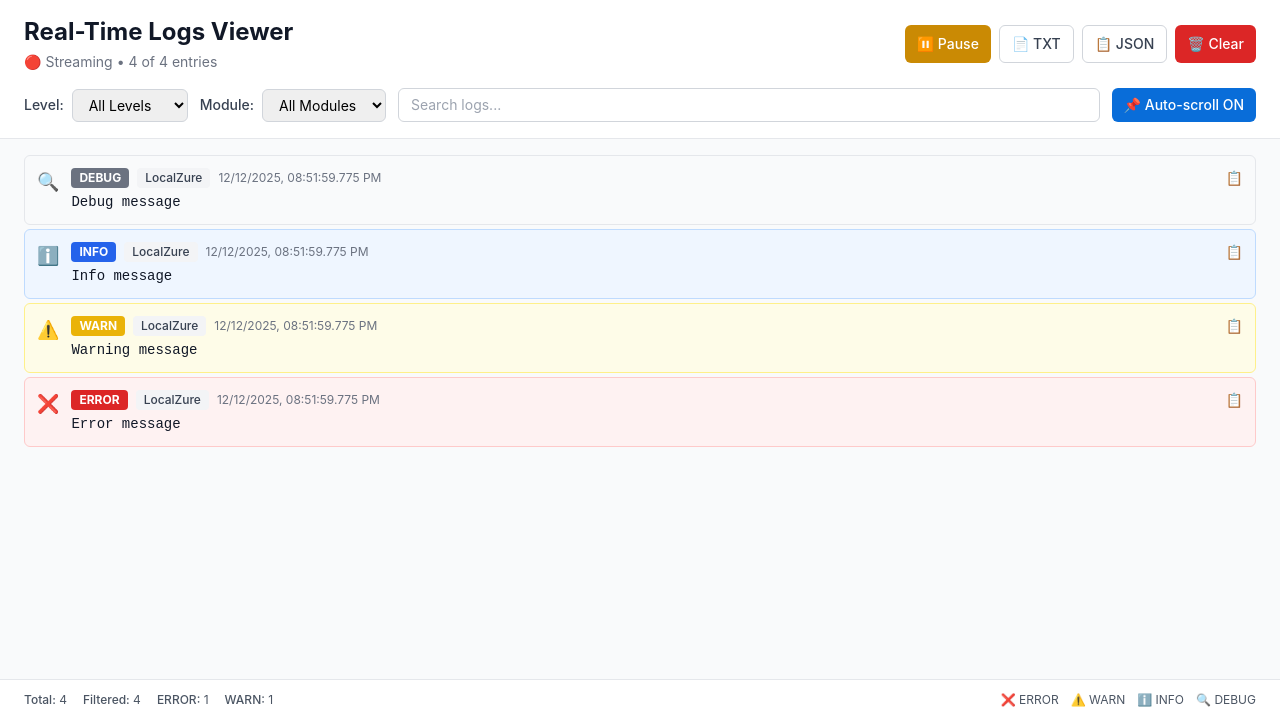
it: Enhanced Logs Component - DESKTOP-003 › AC3: Filter by log level › filters logs by DEBUG level
This screenshot has width=1280, height=720.
Select "🔍 DEBUG" in the dropdown with test id "level-filter" at (130, 105), box x1=72 y1=88 x2=188 y2=122
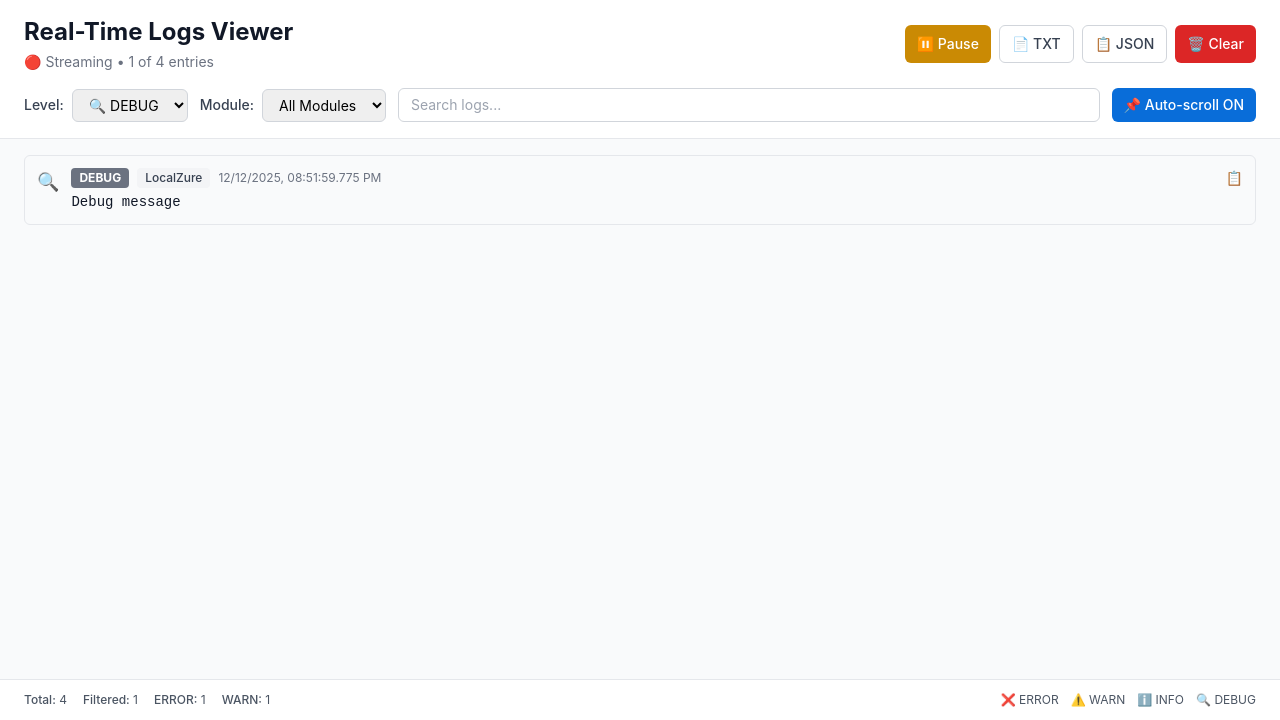
Check: the text "Info message" is gone
Check: the text "Warning message" is gone
Check: the text "Error message" is gone
